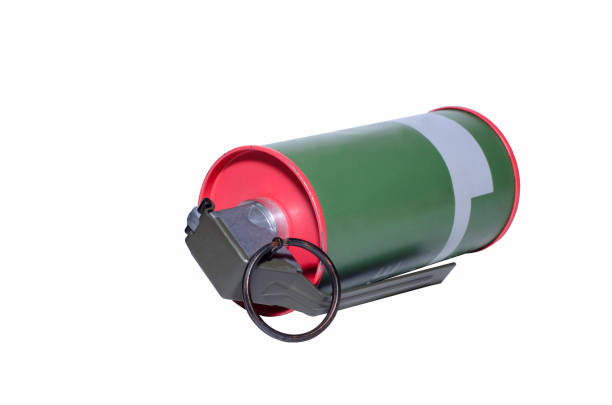e1: (185, 105, 520, 342)
